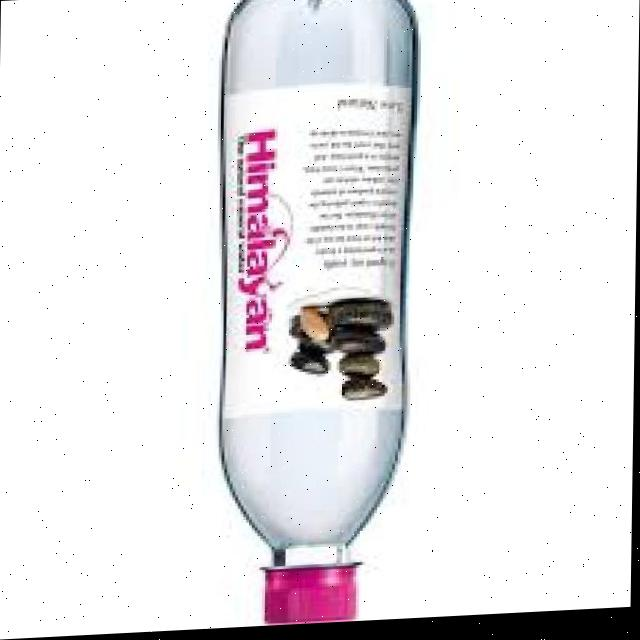bottle: (137, 0, 446, 630)
